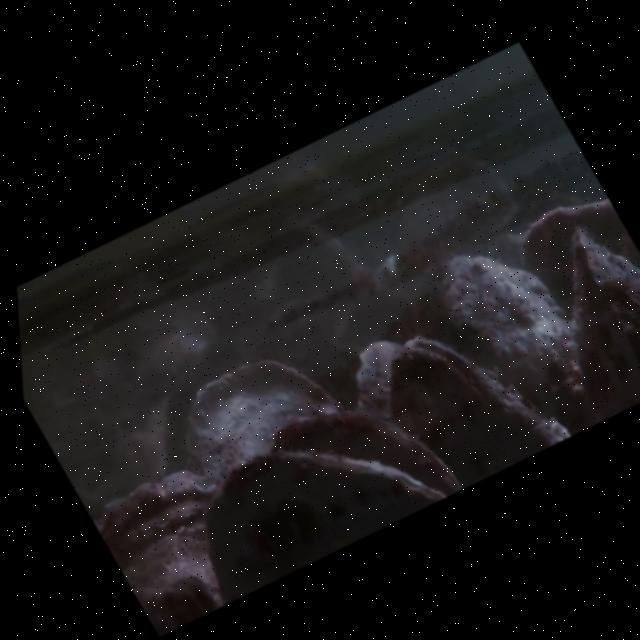Oyster-Closed: (203, 448, 448, 601), (385, 335, 571, 483), (92, 470, 218, 621), (266, 408, 460, 487), (562, 227, 640, 416)
Oyster-Indeterminate: (426, 252, 563, 413), (183, 358, 344, 470), (518, 197, 640, 286), (353, 337, 399, 412)
